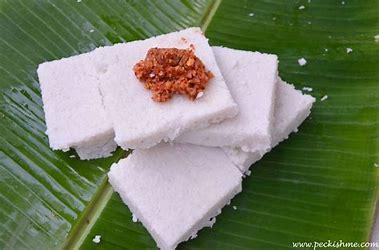Kiribath: (34, 31, 305, 228)
Lunu sambol: (138, 42, 218, 113)
